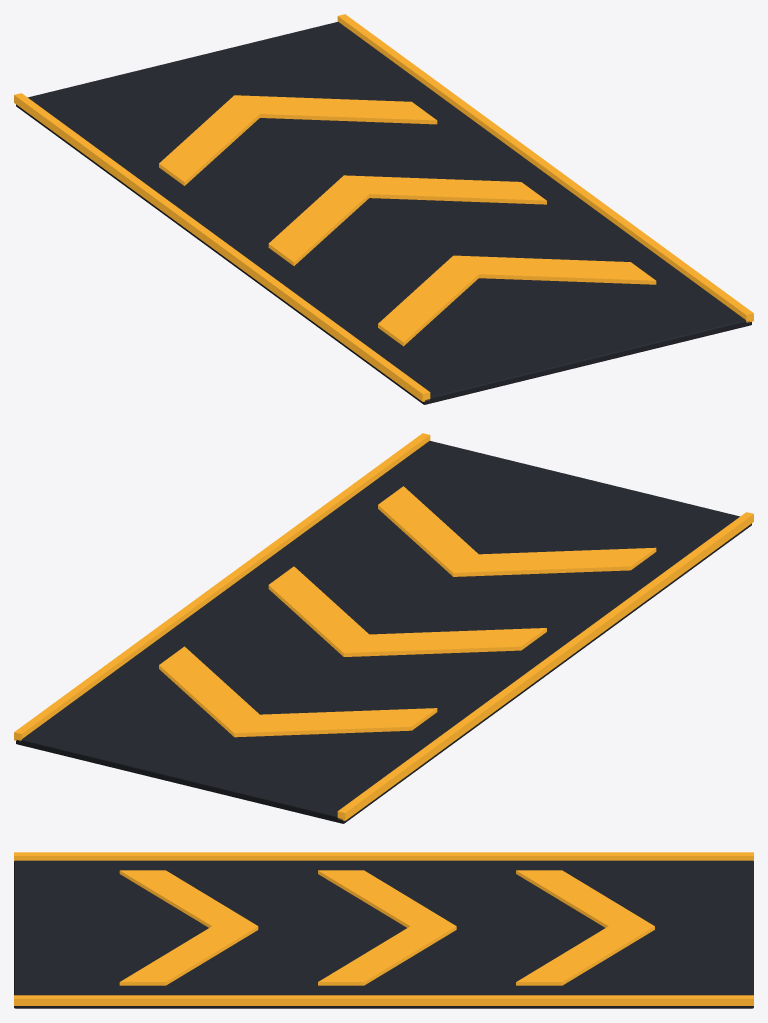
The model's file is prop_boost_pad.glb.
The picture shows the model from 3 angles, top to bottom: view 1: azimuth 30°, elevation 25°; view 2: azimuth 150°, elevation 25°; view 3: azimuth 270°, elevation 25°; orthographic projection. The views are drawn at different scales.
Parts seen in each view (by area): view 1: BoostPad; view 2: BoostPad; view 3: BoostPad.
Part boxes in pixels (box(x1,y1,x2,y2)): BoostPad: box(14, 14, 753, 404); BoostPad: box(14, 433, 753, 823); BoostPad: box(14, 852, 753, 1008).
Size of the model in its own units: 2.62 by 0.09 by 5.6.
